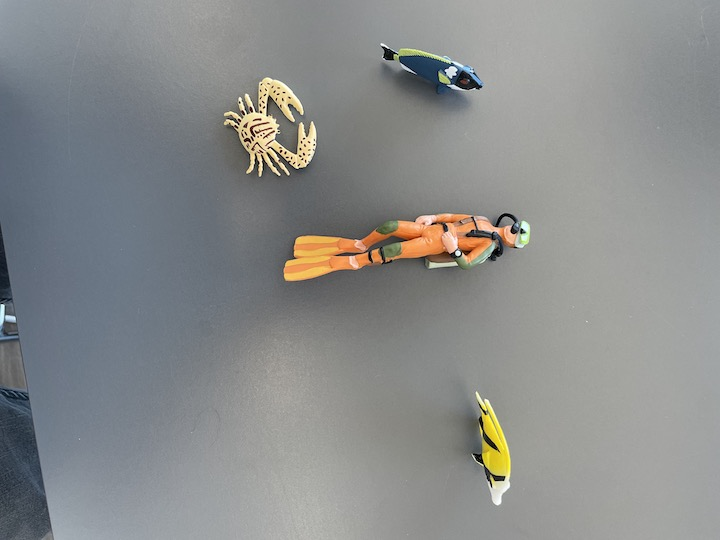crab: (220, 76, 320, 183)
danger: (470, 387, 516, 510)
diver: (283, 210, 531, 282)
fish: (378, 40, 486, 101)
